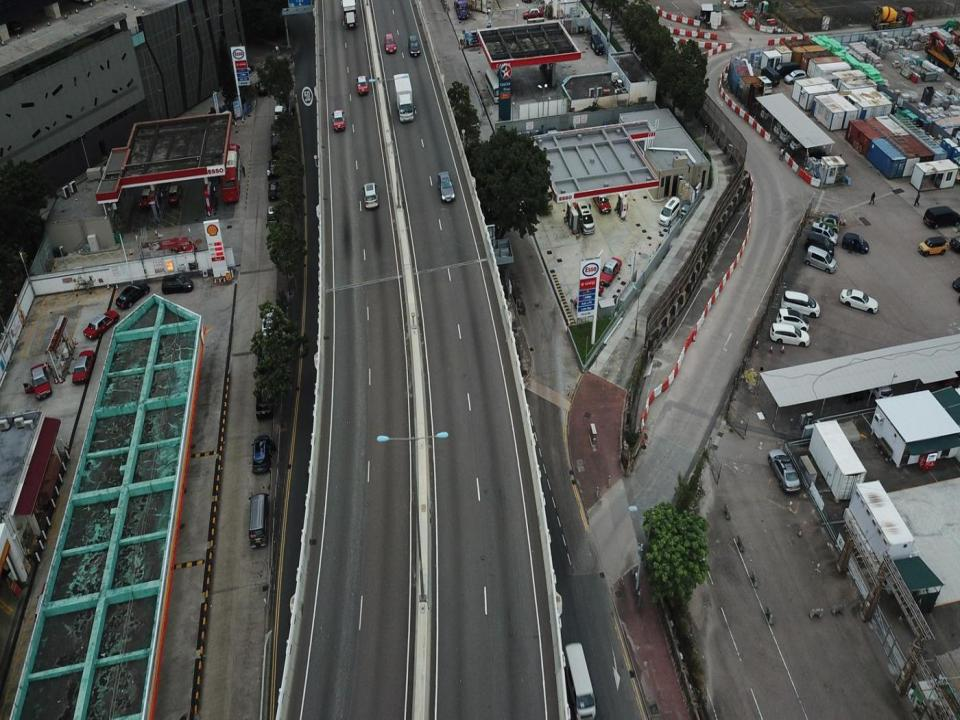bus: (560, 642, 600, 719), (221, 138, 242, 206), (485, 67, 503, 104)
car: (766, 447, 801, 495), (839, 284, 879, 314), (782, 290, 819, 322), (83, 310, 121, 341), (804, 242, 838, 276), (22, 363, 52, 401), (768, 320, 810, 347), (921, 204, 960, 231), (115, 281, 150, 310), (575, 194, 597, 236), (250, 432, 271, 473), (776, 306, 809, 332), (159, 271, 194, 295), (254, 376, 274, 418), (72, 350, 95, 386), (805, 230, 833, 259), (808, 218, 838, 244), (599, 254, 625, 284), (841, 230, 870, 255), (260, 306, 279, 342), (658, 196, 680, 226), (436, 169, 454, 204), (592, 187, 612, 215), (919, 236, 948, 254), (362, 180, 379, 209), (136, 186, 154, 212), (755, 73, 772, 98), (783, 68, 809, 83), (331, 107, 346, 132), (265, 202, 279, 228), (819, 213, 839, 231), (266, 176, 280, 201), (355, 73, 370, 96), (407, 33, 421, 57), (383, 31, 397, 54), (270, 129, 283, 153), (523, 6, 545, 20), (266, 154, 279, 176), (166, 184, 180, 204), (253, 80, 267, 95)
truck: (393, 72, 414, 124), (340, 0, 359, 29)
van: (246, 491, 269, 549), (759, 65, 780, 88), (590, 34, 605, 56)
